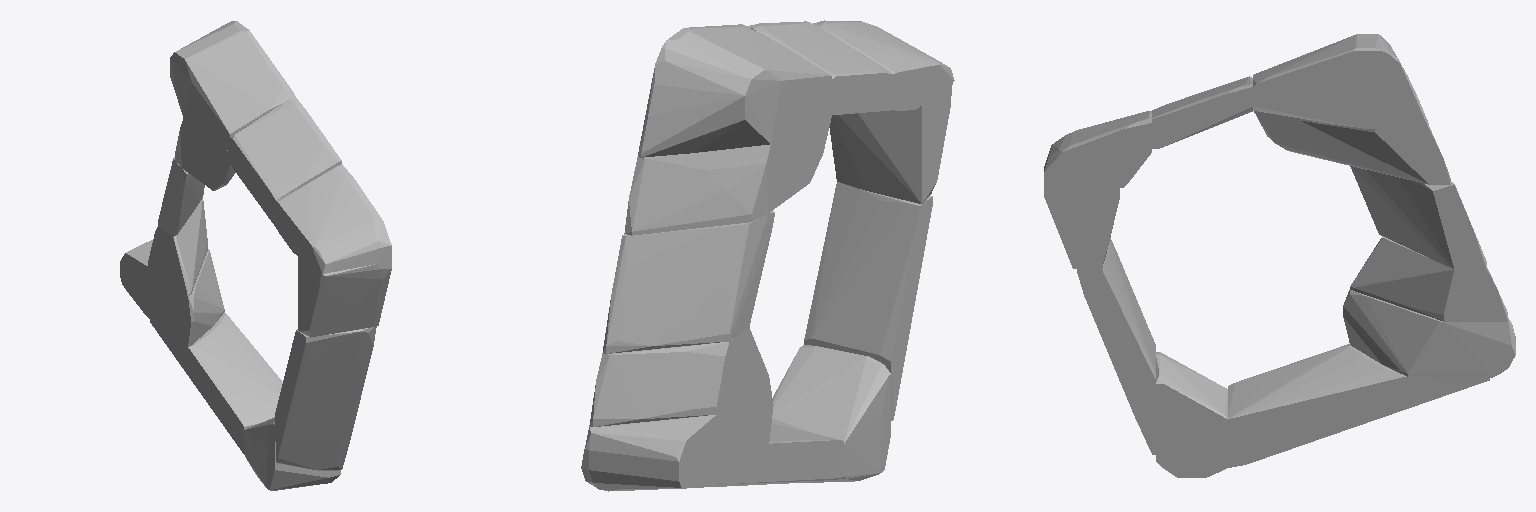
URDF robot description (root):
<robot name="root">
  <link name="link_thingiverse~angled_flange_2505912_convex_piece_0">
    <inertial>
      <origin rpy="0 0 0" xyz="0 0 0"/>
      <mass value="3.89E-02"/>
      <inertia ixx="1.75E-04" ixy="-7.60E-07" ixz="-7.66E-07" iyy="5.29E-05" iyz="6.54E-05" izz="1.27E-04"/>
    </inertial>
    <visual>
      <origin rpy="0 0 0" xyz="0 0 0"/>
      <geometry>
        <mesh filename="thingiverse~angled_flange_2505912_convex_piece_0.obj" scale="1.0000E+00 1.0000E+00 1.0000E+00"/>
      </geometry>
      <material name="">
        <color rgba="7.50E-01 7.50E-01 7.50E-01 1"/>
      </material>
    </visual>
    <collision>
      <origin rpy="0 0 0" xyz="0 0 0"/>
      <geometry>
        <mesh filename="thingiverse~angled_flange_2505912_convex_piece_0.obj" scale="1.0000E+00 1.0000E+00 1.0000E+00"/>
      </geometry>
    </collision>
  </link>
  <link name="link_thingiverse~angled_flange_2505912_convex_piece_1">
    <inertial>
      <origin rpy="0 0 0" xyz="0 0 0"/>
      <mass value="4.20E-02"/>
      <inertia ixx="2.32E-04" ixy="-1.85E-07" ixz="-8.10E-07" iyy="1.83E-04" iyz="9.29E-05" izz="5.39E-05"/>
    </inertial>
    <visual>
      <origin rpy="0 0 0" xyz="0 0 0"/>
      <geometry>
        <mesh filename="thingiverse~angled_flange_2505912_convex_piece_1.obj" scale="1.0000E+00 1.0000E+00 1.0000E+00"/>
      </geometry>
      <material name="">
        <color rgba="7.50E-01 7.50E-01 7.50E-01 1"/>
      </material>
    </visual>
    <collision>
      <origin rpy="0 0 0" xyz="0 0 0"/>
      <geometry>
        <mesh filename="thingiverse~angled_flange_2505912_convex_piece_1.obj" scale="1.0000E+00 1.0000E+00 1.0000E+00"/>
      </geometry>
    </collision>
  </link>
  <joint name="link_thingiverse~angled_flange_2505912_convex_piece_1_joint" type="fixed">
    <origin rpy="0 0 0" xyz="0 0 0"/>
    <parent link="link_thingiverse~angled_flange_2505912_convex_piece_0"/>
    <child link="link_thingiverse~angled_flange_2505912_convex_piece_1"/>
  </joint>
  <link name="link_thingiverse~angled_flange_2505912_convex_piece_2">
    <inertial>
      <origin rpy="0 0 0" xyz="0 0 0"/>
      <mass value="6.24E-02"/>
      <inertia ixx="2.41E-04" ixy="1.85E-06" ixz="-4.67E-06" iyy="2.07E-04" iyz="-3.73E-05" izz="4.16E-05"/>
    </inertial>
    <visual>
      <origin rpy="0 0 0" xyz="0 0 0"/>
      <geometry>
        <mesh filename="thingiverse~angled_flange_2505912_convex_piece_2.obj" scale="1.0000E+00 1.0000E+00 1.0000E+00"/>
      </geometry>
      <material name="">
        <color rgba="7.50E-01 7.50E-01 7.50E-01 1"/>
      </material>
    </visual>
    <collision>
      <origin rpy="0 0 0" xyz="0 0 0"/>
      <geometry>
        <mesh filename="thingiverse~angled_flange_2505912_convex_piece_2.obj" scale="1.0000E+00 1.0000E+00 1.0000E+00"/>
      </geometry>
    </collision>
  </link>
  <joint name="link_thingiverse~angled_flange_2505912_convex_piece_2_joint" type="fixed">
    <origin rpy="0 0 0" xyz="0 0 0"/>
    <parent link="link_thingiverse~angled_flange_2505912_convex_piece_1"/>
    <child link="link_thingiverse~angled_flange_2505912_convex_piece_2"/>
  </joint>
  <link name="link_thingiverse~angled_flange_2505912_convex_piece_3">
    <inertial>
      <origin rpy="0 0 0" xyz="0 0 0"/>
      <mass value="3.45E-02"/>
      <inertia ixx="1.80E-04" ixy="-6.23E-07" ixz="1.45E-07" iyy="1.31E-05" iyz="-3.74E-05" izz="1.71E-04"/>
    </inertial>
    <visual>
      <origin rpy="0 0 0" xyz="0 0 0"/>
      <geometry>
        <mesh filename="thingiverse~angled_flange_2505912_convex_piece_3.obj" scale="1.0000E+00 1.0000E+00 1.0000E+00"/>
      </geometry>
      <material name="">
        <color rgba="7.50E-01 7.50E-01 7.50E-01 1"/>
      </material>
    </visual>
    <collision>
      <origin rpy="0 0 0" xyz="0 0 0"/>
      <geometry>
        <mesh filename="thingiverse~angled_flange_2505912_convex_piece_3.obj" scale="1.0000E+00 1.0000E+00 1.0000E+00"/>
      </geometry>
    </collision>
  </link>
  <joint name="link_thingiverse~angled_flange_2505912_convex_piece_3_joint" type="fixed">
    <origin rpy="0 0 0" xyz="0 0 0"/>
    <parent link="link_thingiverse~angled_flange_2505912_convex_piece_2"/>
    <child link="link_thingiverse~angled_flange_2505912_convex_piece_3"/>
  </joint>
  <link name="link_thingiverse~angled_flange_2505912_convex_piece_4">
    <inertial>
      <origin rpy="0 0 0" xyz="0 0 0"/>
      <mass value="2.75E-02"/>
      <inertia ixx="6.60E-05" ixy="8.75E-07" ixz="-3.61E-07" iyy="9.22E-06" iyz="1.60E-05" izz="6.03E-05"/>
    </inertial>
    <visual>
      <origin rpy="0 0 0" xyz="0 0 0"/>
      <geometry>
        <mesh filename="thingiverse~angled_flange_2505912_convex_piece_4.obj" scale="1.0000E+00 1.0000E+00 1.0000E+00"/>
      </geometry>
      <material name="">
        <color rgba="7.50E-01 7.50E-01 7.50E-01 1"/>
      </material>
    </visual>
    <collision>
      <origin rpy="0 0 0" xyz="0 0 0"/>
      <geometry>
        <mesh filename="thingiverse~angled_flange_2505912_convex_piece_4.obj" scale="1.0000E+00 1.0000E+00 1.0000E+00"/>
      </geometry>
    </collision>
  </link>
  <joint name="link_thingiverse~angled_flange_2505912_convex_piece_4_joint" type="fixed">
    <origin rpy="0 0 0" xyz="0 0 0"/>
    <parent link="link_thingiverse~angled_flange_2505912_convex_piece_3"/>
    <child link="link_thingiverse~angled_flange_2505912_convex_piece_4"/>
  </joint>
  <link name="link_thingiverse~angled_flange_2505912_convex_piece_5">
    <inertial>
      <origin rpy="0 0 0" xyz="0 0 0"/>
      <mass value="5.57E-02"/>
      <inertia ixx="2.28E-04" ixy="-4.85E-08" ixz="1.37E-06" iyy="6.60E-05" iyz="-9.65E-05" izz="1.69E-04"/>
    </inertial>
    <visual>
      <origin rpy="0 0 0" xyz="0 0 0"/>
      <geometry>
        <mesh filename="thingiverse~angled_flange_2505912_convex_piece_5.obj" scale="1.0000E+00 1.0000E+00 1.0000E+00"/>
      </geometry>
      <material name="">
        <color rgba="7.50E-01 7.50E-01 7.50E-01 1"/>
      </material>
    </visual>
    <collision>
      <origin rpy="0 0 0" xyz="0 0 0"/>
      <geometry>
        <mesh filename="thingiverse~angled_flange_2505912_convex_piece_5.obj" scale="1.0000E+00 1.0000E+00 1.0000E+00"/>
      </geometry>
    </collision>
  </link>
  <joint name="link_thingiverse~angled_flange_2505912_convex_piece_5_joint" type="fixed">
    <origin rpy="0 0 0" xyz="0 0 0"/>
    <parent link="link_thingiverse~angled_flange_2505912_convex_piece_4"/>
    <child link="link_thingiverse~angled_flange_2505912_convex_piece_5"/>
  </joint>
  <link name="link_thingiverse~angled_flange_2505912_convex_piece_6">
    <inertial>
      <origin rpy="0 0 0" xyz="0 0 0"/>
      <mass value="2.70E-02"/>
      <inertia ixx="7.85E-05" ixy="1.08E-06" ixz="1.93E-07" iyy="7.43E-06" iyz="-1.85E-05" izz="7.44E-05"/>
    </inertial>
    <visual>
      <origin rpy="0 0 0" xyz="0 0 0"/>
      <geometry>
        <mesh filename="thingiverse~angled_flange_2505912_convex_piece_6.obj" scale="1.0000E+00 1.0000E+00 1.0000E+00"/>
      </geometry>
      <material name="">
        <color rgba="7.50E-01 7.50E-01 7.50E-01 1"/>
      </material>
    </visual>
    <collision>
      <origin rpy="0 0 0" xyz="0 0 0"/>
      <geometry>
        <mesh filename="thingiverse~angled_flange_2505912_convex_piece_6.obj" scale="1.0000E+00 1.0000E+00 1.0000E+00"/>
      </geometry>
    </collision>
  </link>
  <joint name="link_thingiverse~angled_flange_2505912_convex_piece_6_joint" type="fixed">
    <origin rpy="0 0 0" xyz="0 0 0"/>
    <parent link="link_thingiverse~angled_flange_2505912_convex_piece_5"/>
    <child link="link_thingiverse~angled_flange_2505912_convex_piece_6"/>
  </joint>
  <link name="link_thingiverse~angled_flange_2505912_convex_piece_7">
    <inertial>
      <origin rpy="0 0 0" xyz="0 0 0"/>
      <mass value="3.34E-02"/>
      <inertia ixx="1.83E-04" ixy="-1.57E-06" ixz="1.15E-06" iyy="5.03E-05" iyz="-7.81E-05" izz="1.38E-04"/>
    </inertial>
    <visual>
      <origin rpy="0 0 0" xyz="0 0 0"/>
      <geometry>
        <mesh filename="thingiverse~angled_flange_2505912_convex_piece_7.obj" scale="1.0000E+00 1.0000E+00 1.0000E+00"/>
      </geometry>
      <material name="">
        <color rgba="7.50E-01 7.50E-01 7.50E-01 1"/>
      </material>
    </visual>
    <collision>
      <origin rpy="0 0 0" xyz="0 0 0"/>
      <geometry>
        <mesh filename="thingiverse~angled_flange_2505912_convex_piece_7.obj" scale="1.0000E+00 1.0000E+00 1.0000E+00"/>
      </geometry>
    </collision>
  </link>
  <joint name="link_thingiverse~angled_flange_2505912_convex_piece_7_joint" type="fixed">
    <origin rpy="0 0 0" xyz="0 0 0"/>
    <parent link="link_thingiverse~angled_flange_2505912_convex_piece_6"/>
    <child link="link_thingiverse~angled_flange_2505912_convex_piece_7"/>
  </joint>
  <link name="link_thingiverse~angled_flange_2505912_convex_piece_8">
    <inertial>
      <origin rpy="0 0 0" xyz="0 0 0"/>
      <mass value="2.83E-02"/>
      <inertia ixx="1.01E-04" ixy="7.23E-07" ixz="-6.94E-07" iyy="7.58E-05" iyz="-4.11E-05" izz="2.91E-05"/>
    </inertial>
    <visual>
      <origin rpy="0 0 0" xyz="0 0 0"/>
      <geometry>
        <mesh filename="thingiverse~angled_flange_2505912_convex_piece_8.obj" scale="1.0000E+00 1.0000E+00 1.0000E+00"/>
      </geometry>
      <material name="">
        <color rgba="7.50E-01 7.50E-01 7.50E-01 1"/>
      </material>
    </visual>
    <collision>
      <origin rpy="0 0 0" xyz="0 0 0"/>
      <geometry>
        <mesh filename="thingiverse~angled_flange_2505912_convex_piece_8.obj" scale="1.0000E+00 1.0000E+00 1.0000E+00"/>
      </geometry>
    </collision>
  </link>
  <joint name="link_thingiverse~angled_flange_2505912_convex_piece_8_joint" type="fixed">
    <origin rpy="0 0 0" xyz="0 0 0"/>
    <parent link="link_thingiverse~angled_flange_2505912_convex_piece_7"/>
    <child link="link_thingiverse~angled_flange_2505912_convex_piece_8"/>
  </joint>
  <link name="link_thingiverse~angled_flange_2505912_convex_piece_9">
    <inertial>
      <origin rpy="0 0 0" xyz="0 0 0"/>
      <mass value="4.28E-02"/>
      <inertia ixx="1.07E-04" ixy="1.10E-06" ixz="-4.07E-06" iyy="7.81E-05" iyz="3.99E-05" izz="3.51E-05"/>
    </inertial>
    <visual>
      <origin rpy="0 0 0" xyz="0 0 0"/>
      <geometry>
        <mesh filename="thingiverse~angled_flange_2505912_convex_piece_9.obj" scale="1.0000E+00 1.0000E+00 1.0000E+00"/>
      </geometry>
      <material name="">
        <color rgba="7.50E-01 7.50E-01 7.50E-01 1"/>
      </material>
    </visual>
    <collision>
      <origin rpy="0 0 0" xyz="0 0 0"/>
      <geometry>
        <mesh filename="thingiverse~angled_flange_2505912_convex_piece_9.obj" scale="1.0000E+00 1.0000E+00 1.0000E+00"/>
      </geometry>
    </collision>
  </link>
  <joint name="link_thingiverse~angled_flange_2505912_convex_piece_9_joint" type="fixed">
    <origin rpy="0 0 0" xyz="0 0 0"/>
    <parent link="link_thingiverse~angled_flange_2505912_convex_piece_8"/>
    <child link="link_thingiverse~angled_flange_2505912_convex_piece_9"/>
  </joint>
  <link name="link_thingiverse~angled_flange_2505912_convex_piece_10">
    <inertial>
      <origin rpy="0 0 0" xyz="0 0 0"/>
      <mass value="7.02E-02"/>
      <inertia ixx="3.17E-04" ixy="2.01E-06" ixz="3.85E-06" iyy="2.85E-04" iyz="7.88E-05" izz="4.04E-05"/>
    </inertial>
    <visual>
      <origin rpy="0 0 0" xyz="0 0 0"/>
      <geometry>
        <mesh filename="thingiverse~angled_flange_2505912_convex_piece_10.obj" scale="1.0000E+00 1.0000E+00 1.0000E+00"/>
      </geometry>
      <material name="">
        <color rgba="7.50E-01 7.50E-01 7.50E-01 1"/>
      </material>
    </visual>
    <collision>
      <origin rpy="0 0 0" xyz="0 0 0"/>
      <geometry>
        <mesh filename="thingiverse~angled_flange_2505912_convex_piece_10.obj" scale="1.0000E+00 1.0000E+00 1.0000E+00"/>
      </geometry>
    </collision>
  </link>
  <joint name="link_thingiverse~angled_flange_2505912_convex_piece_10_joint" type="fixed">
    <origin rpy="0 0 0" xyz="0 0 0"/>
    <parent link="link_thingiverse~angled_flange_2505912_convex_piece_9"/>
    <child link="link_thingiverse~angled_flange_2505912_convex_piece_10"/>
  </joint>
</robot>

--- Render facts (derived) ---
The picture shows the robot from 3 angles, left to right: view 1: azimuth 30°, elevation 25°; view 2: azimuth 150°, elevation 25°; view 3: azimuth 270°, elevation 25°; orthographic projection.
Robot: root — 11 links, 10 joints (10 fixed); root link link_thingiverse~angled_flange_2505912_convex_piece_0; default pose: every joint at zero.
Visible links, largest first — view 1: link_thingiverse~angled_flange_2505912_convex_piece_0, link_thingiverse~angled_flange_2505912_convex_piece_10, link_thingiverse~angled_flange_2505912_convex_piece_7, link_thingiverse~angled_flange_2505912_convex_piece_2, link_thingiverse~angled_flange_2505912_convex_piece_8, link_thingiverse~angled_flange_2505912_convex_piece_3, link_thingiverse~angled_flange_2505912_convex_piece_5, link_thingiverse~angled_flange_2505912_convex_piece_6, link_thingiverse~angled_flange_2505912_convex_piece_1, link_thingiverse~angled_flange_2505912_convex_piece_9, link_thingiverse~angled_flange_2505912_convex_piece_4; view 2: link_thingiverse~angled_flange_2505912_convex_piece_10, link_thingiverse~angled_flange_2505912_convex_piece_4, link_thingiverse~angled_flange_2505912_convex_piece_0, link_thingiverse~angled_flange_2505912_convex_piece_9, link_thingiverse~angled_flange_2505912_convex_piece_5, link_thingiverse~angled_flange_2505912_convex_piece_6, link_thingiverse~angled_flange_2505912_convex_piece_1, link_thingiverse~angled_flange_2505912_convex_piece_3, link_thingiverse~angled_flange_2505912_convex_piece_8, link_thingiverse~angled_flange_2505912_convex_piece_2, link_thingiverse~angled_flange_2505912_convex_piece_7; view 3: link_thingiverse~angled_flange_2505912_convex_piece_2, link_thingiverse~angled_flange_2505912_convex_piece_10, link_thingiverse~angled_flange_2505912_convex_piece_5, link_thingiverse~angled_flange_2505912_convex_piece_6, link_thingiverse~angled_flange_2505912_convex_piece_4, link_thingiverse~angled_flange_2505912_convex_piece_1, link_thingiverse~angled_flange_2505912_convex_piece_9, link_thingiverse~angled_flange_2505912_convex_piece_0, link_thingiverse~angled_flange_2505912_convex_piece_7, link_thingiverse~angled_flange_2505912_convex_piece_3, link_thingiverse~angled_flange_2505912_convex_piece_8.
Link boxes in pixels (x1=…): link_thingiverse~angled_flange_2505912_convex_piece_0: x1=275, y1=326, x2=376, y2=470; link_thingiverse~angled_flange_2505912_convex_piece_10: x1=170, y1=21, x2=295, y2=151; link_thingiverse~angled_flange_2505912_convex_piece_7: x1=276, y1=164, x2=391, y2=273; link_thingiverse~angled_flange_2505912_convex_piece_2: x1=150, y1=312, x2=282, y2=453; link_thingiverse~angled_flange_2505912_convex_piece_8: x1=230, y1=97, x2=341, y2=226; link_thingiverse~angled_flange_2505912_convex_piece_3: x1=298, y1=256, x2=391, y2=337; link_thingiverse~angled_flange_2505912_convex_piece_5: x1=120, y1=240, x2=224, y2=346; link_thingiverse~angled_flange_2505912_convex_piece_6: x1=148, y1=198, x2=207, y2=295; link_thingiverse~angled_flange_2505912_convex_piece_1: x1=244, y1=417, x2=340, y2=490; link_thingiverse~angled_flange_2505912_convex_piece_9: x1=175, y1=118, x2=235, y2=190; link_thingiverse~angled_flange_2505912_convex_piece_4: x1=158, y1=157, x2=204, y2=236; link_thingiverse~angled_flange_2505912_convex_piece_10: x1=638, y1=24, x2=831, y2=157; link_thingiverse~angled_flange_2505912_convex_piece_4: x1=603, y1=211, x2=774, y2=353; link_thingiverse~angled_flange_2505912_convex_piece_0: x1=804, y1=182, x2=932, y2=420; link_thingiverse~angled_flange_2505912_convex_piece_9: x1=624, y1=100, x2=831, y2=235; link_thingiverse~angled_flange_2505912_convex_piece_5: x1=581, y1=377, x2=773, y2=489; link_thingiverse~angled_flange_2505912_convex_piece_6: x1=589, y1=327, x2=768, y2=426; link_thingiverse~angled_flange_2505912_convex_piece_1: x1=772, y1=345, x2=890, y2=483; link_thingiverse~angled_flange_2505912_convex_piece_3: x1=829, y1=83, x2=952, y2=203; link_thingiverse~angled_flange_2505912_convex_piece_8: x1=747, y1=21, x2=893, y2=114; link_thingiverse~angled_flange_2505912_convex_piece_2: x1=604, y1=423, x2=843, y2=491; link_thingiverse~angled_flange_2505912_convex_piece_7: x1=813, y1=20, x2=954, y2=110; link_thingiverse~angled_flange_2505912_convex_piece_2: x1=1228, y1=344, x2=1489, y2=467; link_thingiverse~angled_flange_2505912_convex_piece_10: x1=1253, y1=34, x2=1428, y2=128; link_thingiverse~angled_flange_2505912_convex_piece_5: x1=1343, y1=290, x2=1515, y2=377; link_thingiverse~angled_flange_2505912_convex_piece_6: x1=1350, y1=236, x2=1507, y2=321; link_thingiverse~angled_flange_2505912_convex_piece_4: x1=1350, y1=166, x2=1486, y2=268; link_thingiverse~angled_flange_2505912_convex_piece_1: x1=1156, y1=352, x2=1227, y2=477; link_thingiverse~angled_flange_2505912_convex_piece_9: x1=1254, y1=111, x2=1450, y2=184; link_thingiverse~angled_flange_2505912_convex_piece_0: x1=1077, y1=237, x2=1155, y2=454; link_thingiverse~angled_flange_2505912_convex_piece_7: x1=1044, y1=111, x2=1151, y2=187; link_thingiverse~angled_flange_2505912_convex_piece_3: x1=1044, y1=188, x2=1119, y2=268; link_thingiverse~angled_flange_2505912_convex_piece_8: x1=1152, y1=76, x2=1252, y2=148.
Size in the robot's own frame: 0.0299 by 0.1633 by 0.1633 metres.
11 mesh visuals loaded from 11 distinct referenced files (11 OBJ).
